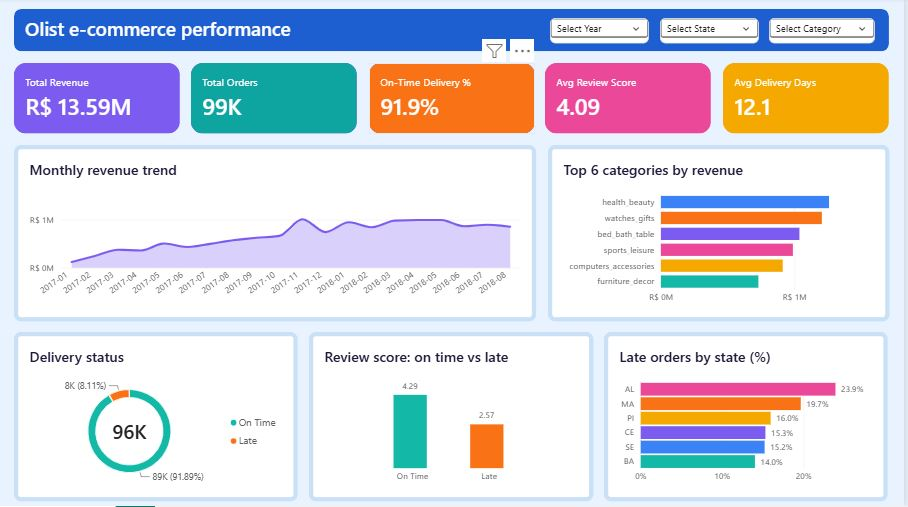

The dashboard page shown, as its layout file describes it:
{"tool":"powerbi","page":{"name":"Executive Summary","canvas":[1280,720],"ordinal":0},"visuals":[{"type":"shape","box":[20,16,1240,60],"z":0},{"type":"textbox","box":[36,26,1240,150],"z":1},{"type":"listSlicer","fields":{"Values":["Date.Year"]},"box":[780,28,140,36],"z":2},{"type":"listSlicer","fields":{"Values":["customers.customer_state"]},"box":[935,28,140,36],"z":3},{"type":"listSlicer","fields":{"Values":["products.Category"]},"box":[1090,28,150,36],"z":4},{"type":"cardVisual","fields":{"Data":["_Measures.Total Revenue"]},"box":[20,92,235,100],"z":5},{"type":"cardVisual","fields":{"Data":["_Measures.Total Orders"]},"box":[271,92.1,235,100],"z":6},{"type":"cardVisual","fields":{"Data":["_Measures.Avg Review Score"]},"box":[773,92.1,235,100],"z":7},{"type":"cardVisual","fields":{"Data":["_Measures.On-Time Delivery %"]},"box":[523,92.1,235,100],"z":8},{"type":"cardVisual","fields":{"Data":["_Measures.Avg Delivery Days"]},"box":[1024.7,92,235,100],"z":9},{"type":"areaChart","title":"Monthly revenue trend","fields":{"Category":["Date.Year-Month"],"Y":["_Measures.Total Revenue"]},"box":[20,208,740,250],"z":10},{"type":"clusteredBarChart","title":"Top 6 categories by revenue","fields":{"Category":["products.Category"],"Y":["_Measures.Total Revenue"]},"box":[776,208,484,250],"z":11},{"type":"donutChart","title":"Delivery status","fields":{"Category":["orders.Delivery Status"],"Y":["_Measures.Delivered Orders"]},"box":[20,474,402,240],"z":12},{"type":"clusteredColumnChart","title":"Review score: on time vs late","fields":{"Category":["orders.Delivery Status"],"Y":["_Measures.Avg Review Score"]},"box":[438,473.4,402.5,240],"z":13},{"type":"clusteredBarChart","title":"Late orders by state (%)","fields":{"Category":["customers.customer_state"],"Y":["_Measures.Late Order %"]},"box":[856,474,402,240],"z":14}]}

Visuals, with their boxes in screenshot pixels (x1, y1, x2, y2), scaled from the page's 1280x720 canvas onto the 908x507 screenshot:
shape: rect(14, 11, 894, 54)
textbox: rect(26, 18, 905, 124)
listSlicer - Date.Year: rect(553, 20, 653, 45)
listSlicer - customers.customer_state: rect(663, 20, 763, 45)
listSlicer - products.Category: rect(773, 20, 880, 45)
cardVisual - _Measures.Total Revenue: rect(14, 65, 181, 135)
cardVisual - _Measures.Total Orders: rect(192, 65, 359, 135)
cardVisual - _Measures.Avg Review Score: rect(548, 65, 715, 135)
cardVisual - _Measures.On-Time Delivery %: rect(371, 65, 538, 135)
cardVisual - _Measures.Avg Delivery Days: rect(727, 65, 894, 135)
"Monthly revenue trend" areaChart: rect(14, 146, 539, 323)
"Top 6 categories by revenue" clusteredBarChart: rect(550, 146, 894, 323)
"Delivery status" donutChart: rect(14, 334, 299, 503)
"Review score: on time vs late" clusteredColumnChart: rect(311, 333, 596, 502)
"Late orders by state (%)" clusteredBarChart: rect(607, 334, 892, 503)
